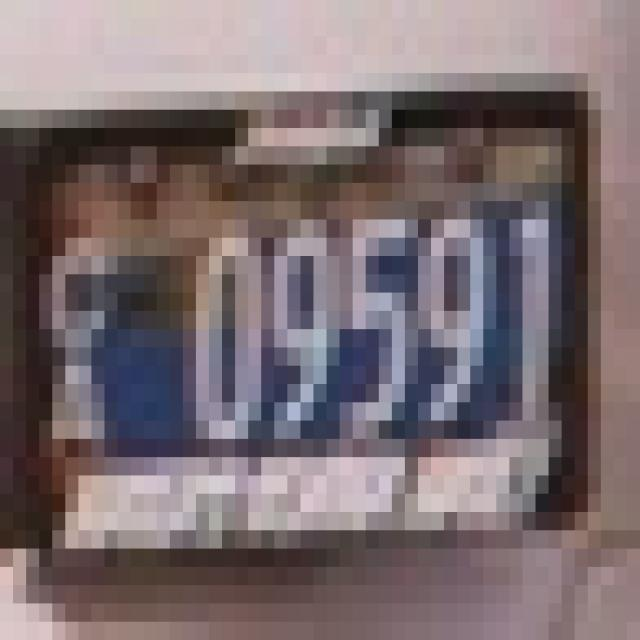LicensePlate: (14, 70, 618, 562)
